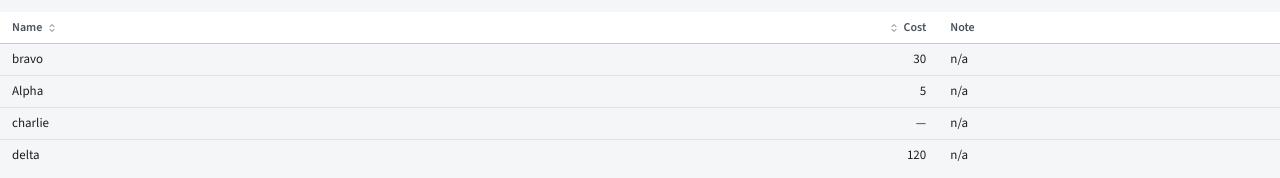
Test case: DataTable › starts numeric columns high → low and keeps missing values last in both directions
Later steps or results of the test are not shown.
Step 1. Click the button "Cost" → (907, 28), box [884,16,930,40]
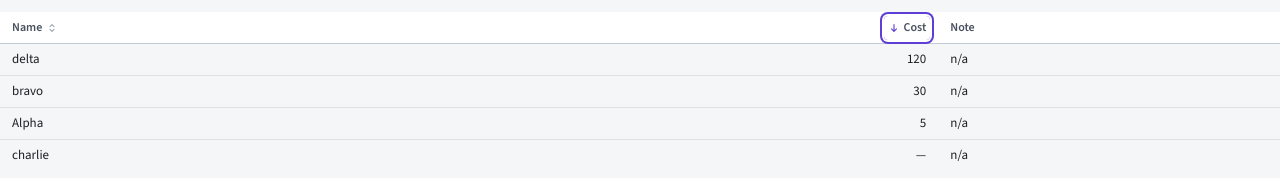
Expected: the column heading "Cost" has attribute aria-sort="descending", [496,12,938,44]
